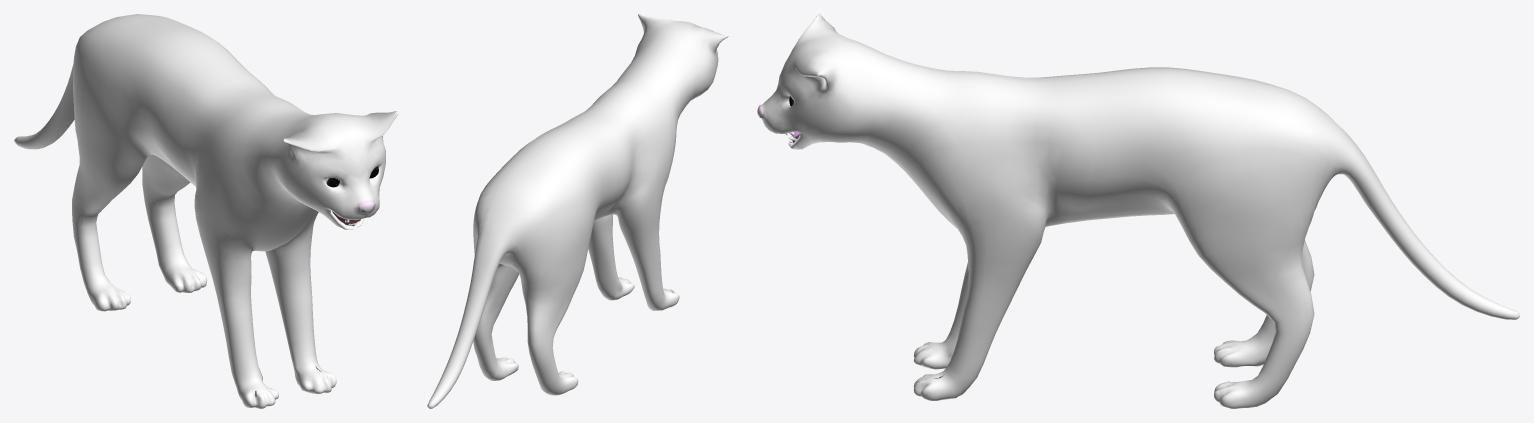
The model's file is COOCHIE.fbx.
3 views of the same model, side by side, from view 1: azimuth 30°, elevation 25°; view 2: azimuth 150°, elevation 25°; view 3: azimuth 270°, elevation 25° (orthographic). The views are drawn at different scales.
Parts seen in each view (by area): view 1: CatBody01; view 2: CatBody01; view 3: CatBody01.
Part boxes in pixels (x1,y1,x2,y2): CatBody01: (14, 14, 398, 408); CatBody01: (427, 14, 728, 408); CatBody01: (757, 14, 1519, 408).
Bounding box in the file's own units: 35.86 × 92.98 × 187.
1 material, 1 textured.
